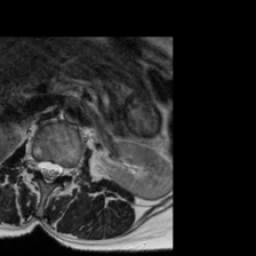CCS_normal: (46, 152, 52, 192)
LFS_normal: (62, 156, 71, 183)
LLS_normal: (52, 155, 62, 185)
RFS_normal: (30, 148, 38, 178)
RLS_normal: (38, 152, 46, 182)
